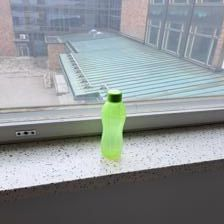bottle: (95, 86, 129, 159)
